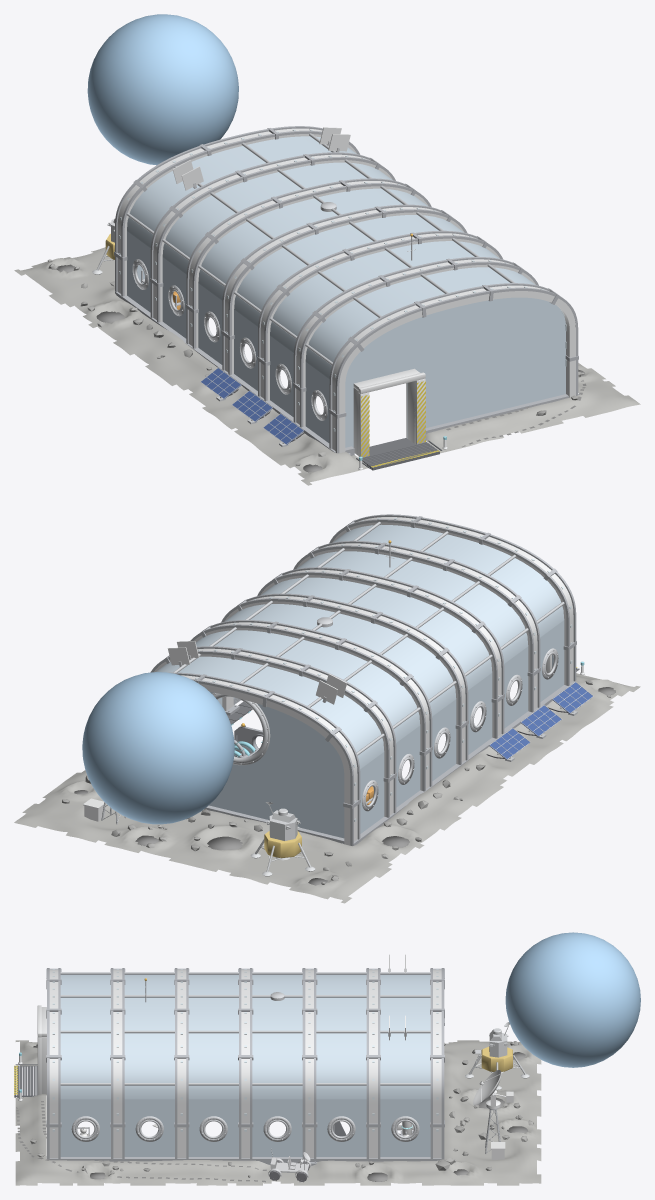
The model's file is LunarBaseCage.fbx.
The picture shows the model from 3 angles, top to bottom: view 1: azimuth 30°, elevation 25°; view 2: azimuth 150°, elevation 25°; view 3: azimuth 270°, elevation 25°; orthographic projection. The views are drawn at different scales.
Parts seen in each view (by area): view 1: LunarShell, LunarRingTrim, LunarRegolith, LunarEarthAtmosphere, LunarRings, LunarFrame, LunarAirlock, LunarSolar, LunarPortholes, LunarDeck, LunarDish, LunarHazard (+3 smaller); view 2: LunarShell, LunarRegolith, LunarRingTrim, LunarEarthAtmosphere, LunarRings, LunarFrame, LunarPortholes, LunarSolar, LunarDish, LunarRocks, LunarLanderBody, LunarCraters (+2 smaller); view 3: LunarShell, LunarRegolith, LunarEarthAtmosphere, LunarRings, LunarRingTrim, LunarFrame, LunarPortholes, LunarCraters, LunarRocks, LunarAirlock, LunarLanderBody, LunarDishHead (+4 smaller).
Boxes of the visible parts, x1=… form: LunarShell: x1=127, y1=136, x2=565, y2=447; LunarRingTrim: x1=114, y1=126, x2=579, y2=455; LunarRegolith: x1=14, y1=247, x2=640, y2=485; LunarEarthAtmosphere: x1=87, y1=14, x2=238, y2=165; LunarRings: x1=117, y1=128, x2=575, y2=452; LunarFrame: x1=126, y1=133, x2=514, y2=447; LunarAirlock: x1=353, y1=368, x2=447, y2=469; LunarSolar: x1=201, y1=368, x2=303, y2=444; LunarPortholes: x1=132, y1=259, x2=327, y2=420; LunarDeck: x1=356, y1=438, x2=442, y2=470; LunarDish: x1=172, y1=127, x2=350, y2=190; LunarHazard: x1=361, y1=381, x2=439, y2=467; LunarShell: x1=156, y1=524, x2=564, y2=838; LunarRegolith: x1=14, y1=673, x2=640, y2=903; LunarRingTrim: x1=150, y1=514, x2=576, y2=845; LunarEarthAtmosphere: x1=82, y1=672, x2=234, y2=824; LunarRings: x1=154, y1=517, x2=573, y2=845; LunarFrame: x1=101, y1=521, x2=593, y2=824; LunarPortholes: x1=212, y1=648, x2=558, y2=811; LunarSolar: x1=489, y1=682, x2=592, y2=759; LunarDish: x1=83, y1=641, x2=347, y2=821; LunarRocks: x1=62, y1=680, x2=610, y2=884; LunarLanderBody: x1=250, y1=802, x2=315, y2=876; LunarCraters: x1=74, y1=687, x2=615, y2=885; LunarShell: x1=60, y1=974, x2=430, y2=1156; LunarRegolith: x1=15, y1=1040, x2=541, y2=1185; LunarEarthAtmosphere: x1=505, y1=932, x2=640, y2=1067; LunarRings: x1=49, y1=969, x2=441, y2=1158; LunarRingTrim: x1=46, y1=968, x2=444, y2=1165; LunarFrame: x1=60, y1=968, x2=500, y2=1154; LunarPortholes: x1=71, y1=1116, x2=419, y2=1141; LunarCraters: x1=16, y1=1044, x2=527, y2=1182; LunarRocks: x1=30, y1=1041, x2=533, y2=1177; LunarAirlock: x1=18, y1=1005, x2=46, y2=1101; LunarLanderBody: x1=465, y1=1022, x2=529, y2=1090; LunarDishHead: x1=473, y1=1070, x2=513, y2=1108.
Size of the model in its own units: 1075 by 602 by 1962.
